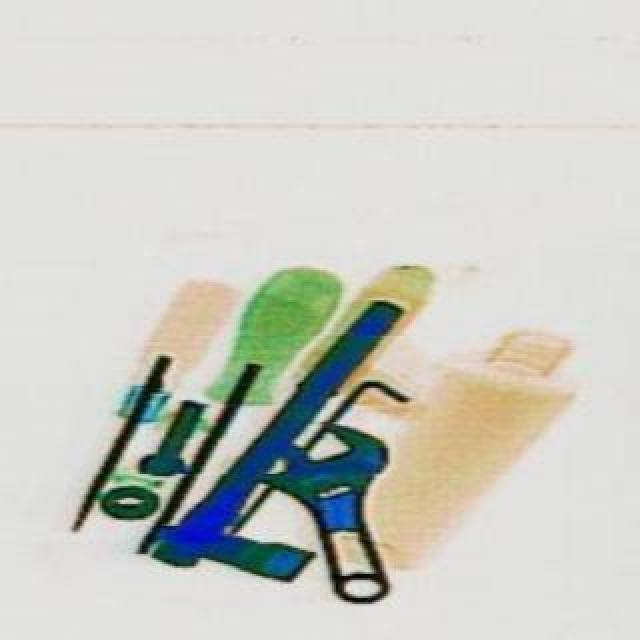scissors: (252, 406, 444, 622)
